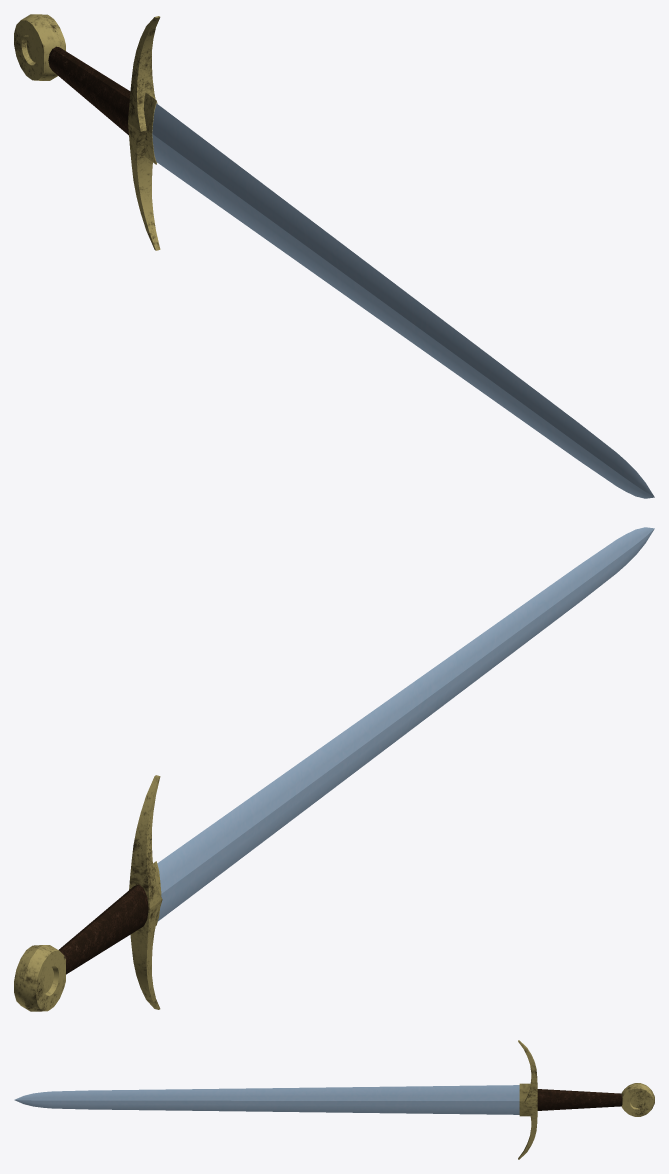
File: 002_Weapons_Arming Sword.glb
The picture shows the model from 3 angles, top to bottom: view 1: azimuth 30°, elevation 25°; view 2: azimuth 150°, elevation 25°; view 3: azimuth 270°, elevation 25°; orthographic projection. The views are drawn at different scales.
Parts seen in each view (by area): view 1: 002a_Model_Baked_Arming Sword; view 2: 002a_Model_Baked_Arming Sword; view 3: 002a_Model_Baked_Arming Sword.
Boxes of the visible parts, left/top/right/bottom form: 002a_Model_Baked_Arming Sword: left=14, top=14, right=654, bottom=498; 002a_Model_Baked_Arming Sword: left=14, top=527, right=654, bottom=1011; 002a_Model_Baked_Arming Sword: left=14, top=1040, right=654, bottom=1159.
Size of the model in its own units: 0.02 by 0.2027 by 0.9974.
1 material, 1 textured.
